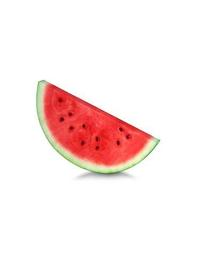watermelon: (33, 80, 161, 176)
